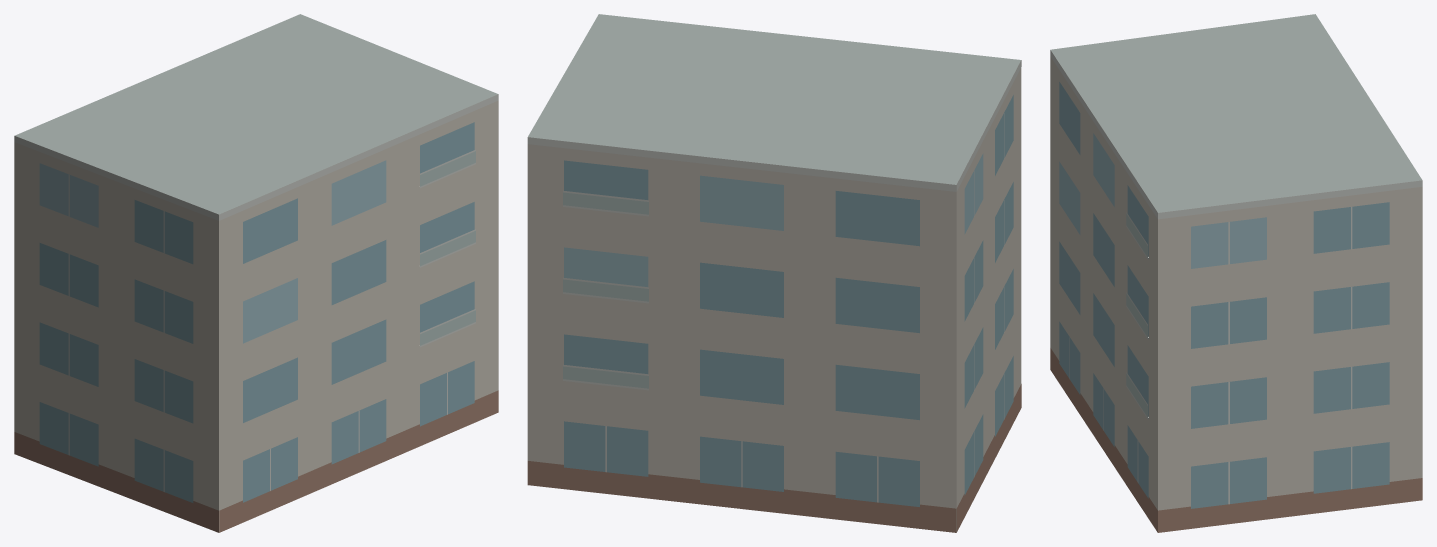
The model's file is survey-upis-32704944.glb.
The picture shows the model from 3 angles, left to right: view 1: azimuth 30°, elevation 25°; view 2: azimuth 150°, elevation 25°; view 3: azimuth 270°, elevation 25°; orthographic projection. The views are drawn at different scales.
Parts seen in each view (by area): view 1: survey-upis-32704944.tmp; view 2: survey-upis-32704944.tmp; view 3: survey-upis-32704944.tmp.
Boxes of the visible parts, x1,y1,x2,y2 form: survey-upis-32704944.tmp: [14, 14, 498, 532]; survey-upis-32704944.tmp: [527, 14, 1021, 532]; survey-upis-32704944.tmp: [1050, 14, 1422, 532].
Bounding box in the file's own units: 16.28 × 12.2 × 12.88.
